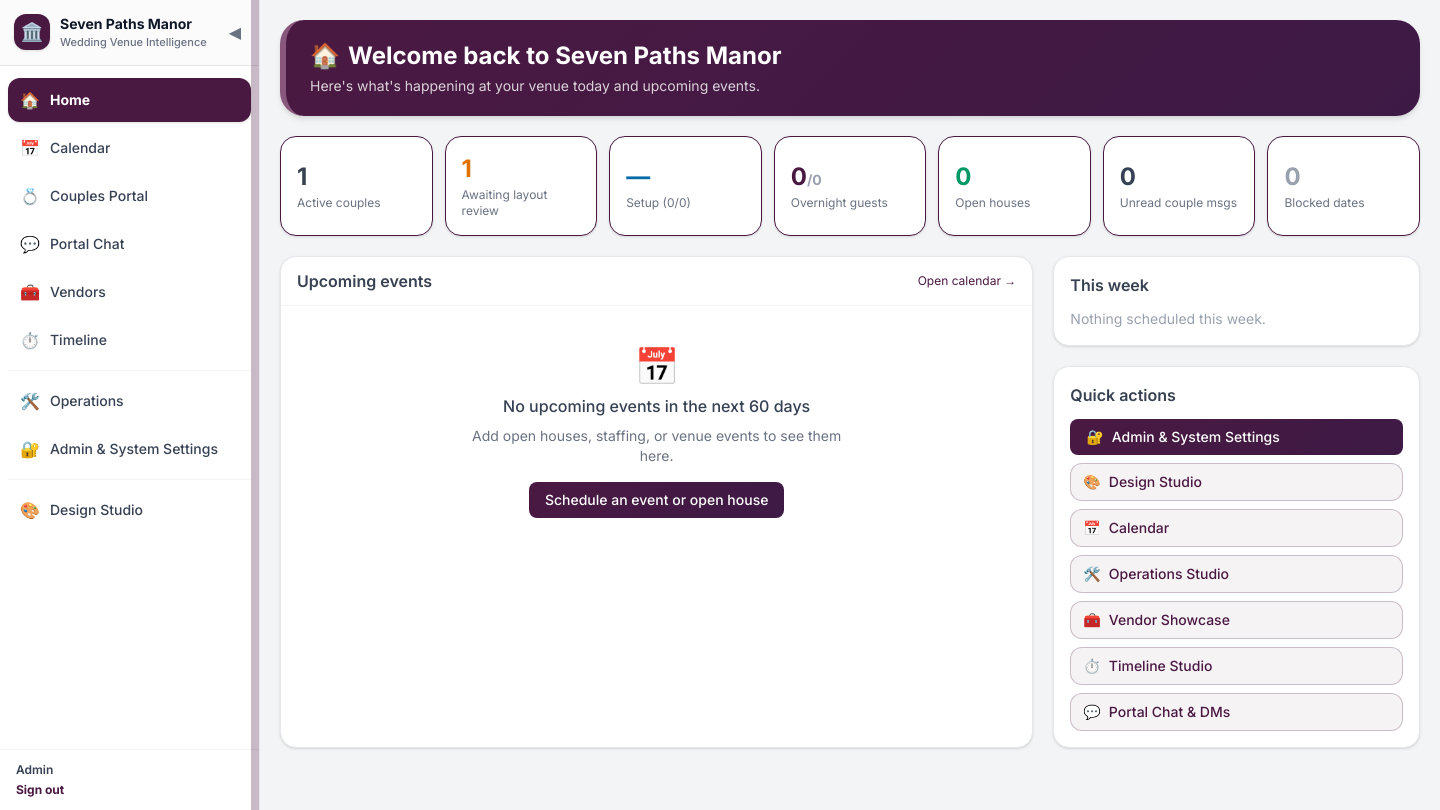
Test: VenueDashboard › switches to the calendar section
The width and height of the screenshot is (1440, 810).
Click the button "📅 Calendar" below "Wedding Venue Intelligence" at {"x": 130, "y": 148}, box 8,126 -> 251,170
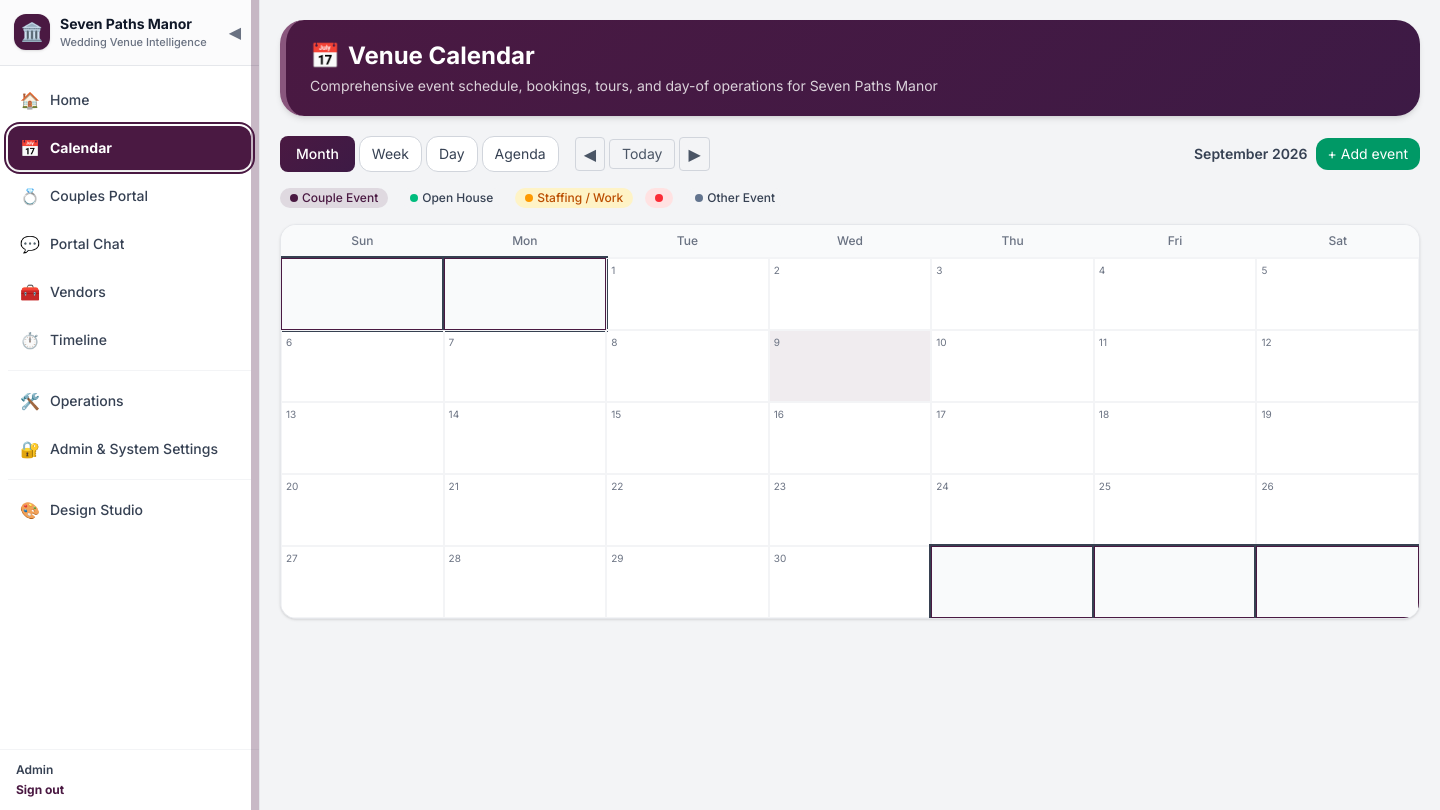
Result: the button "month" is shown at 280,136 -> 355,172
Result: the button "agenda" is shown at 482,136 -> 559,172
